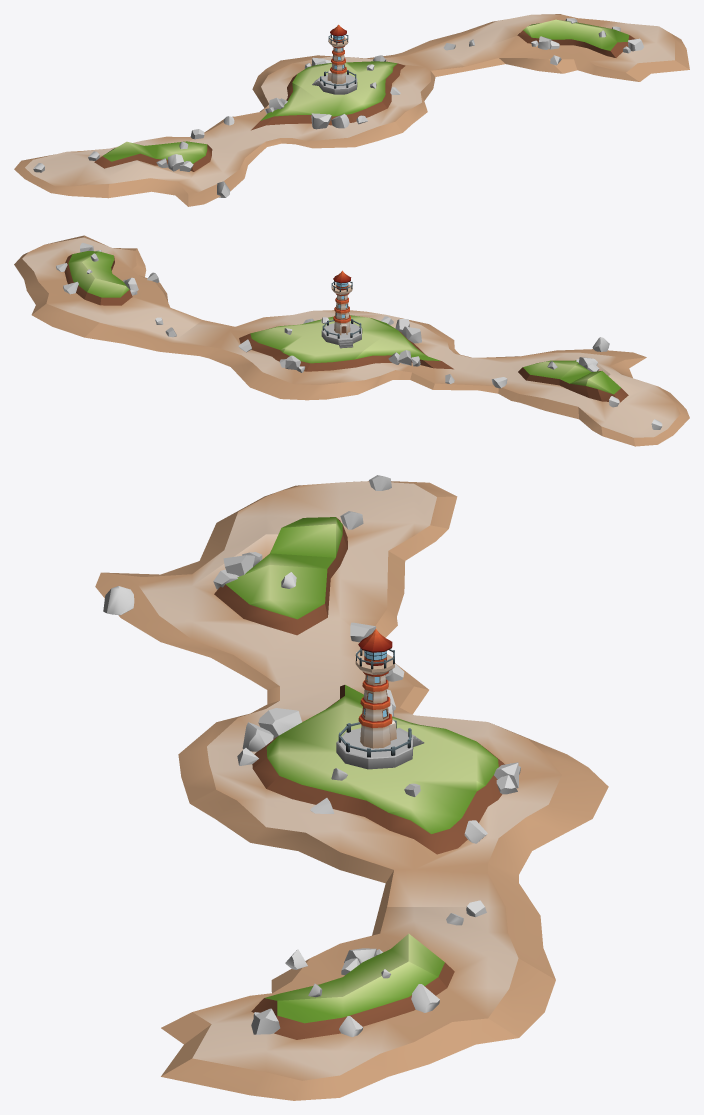
The model's file is LightHouse.fbx.
3 renders of one model, top to bottom at view 1: azimuth 30°, elevation 25°; view 2: azimuth 150°, elevation 25°; view 3: azimuth 270°, elevation 25°, orthographic. The views are drawn at different scales.
Visible parts, largest first — view 1: Plane, Cube; view 2: Plane, Cube; view 3: Plane, Cube.
Boxes of the visible parts, x1,y1,x2,y2 form: Plane: (14,14,689,206); Cube: (312,24,357,94); Plane: (14,235,689,446); Cube: (321,270,362,348); Plane: (95,475,608,1100); Cube: (336,629,424,769).
Size of the model in its own units: 12683 by 1566 by 4437.
